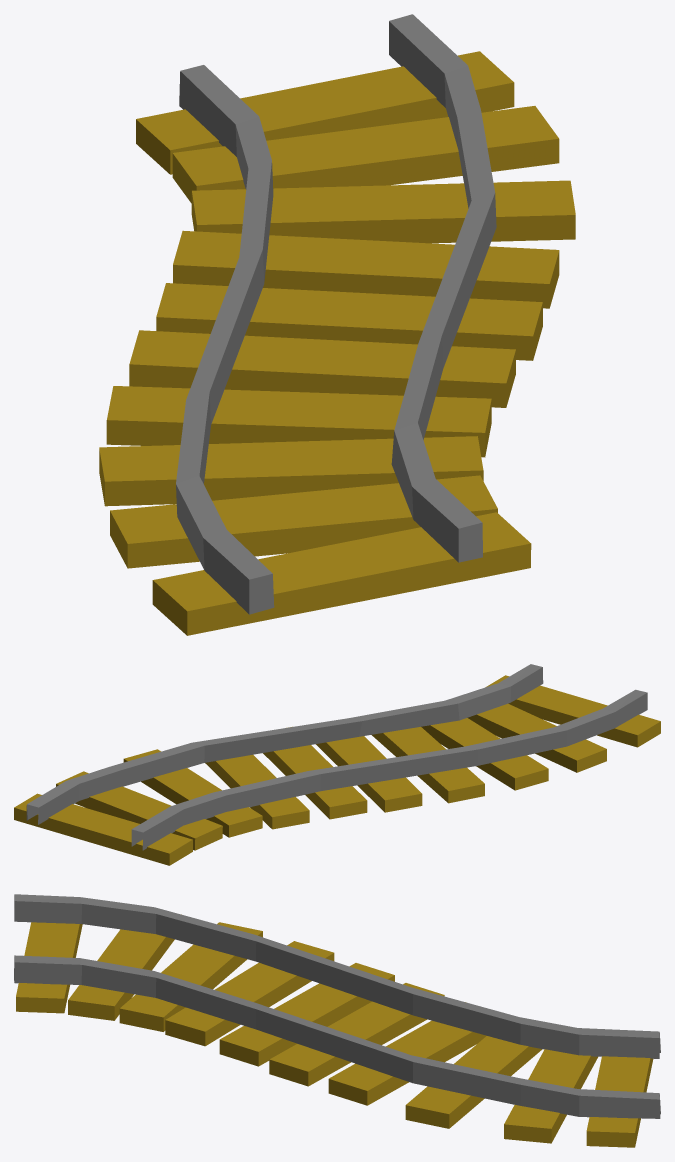
The model's file is S Bend Right.fbx.
The picture shows the model from 3 angles, top to bottom: view 1: azimuth 30°, elevation 25°; view 2: azimuth 150°, elevation 25°; view 3: azimuth 270°, elevation 25°; orthographic projection. The views are drawn at different scales.
Visible parts, largest first — view 1: Cube.009, Cube.012, Cube.019, Cube.014, Cube.016, Cube.018, Cube.000, Cube.015, Cube.013, Cube.017, Cube.011; view 2: Cube.009, Cube.011, Cube.012, Cube.013, Cube.000, Cube.014, Cube.015, Cube.016, Cube.019, Cube.018, Cube.017; view 3: Cube.009, Cube.017, Cube.016, Cube.015, Cube.018, Cube.019, Cube.000, Cube.013, Cube.014, Cube.011, Cube.012.
Part boxes in pixels (x1,y1,x2,y2): Cube.009: (176,14,496,614); Cube.012: (152,512,531,635); Cube.019: (191,180,575,243); Cube.014: (172,106,559,203); Cube.016: (129,330,515,407); Cube.018: (173,230,559,308); Cube.000: (99,436,483,506); Cube.015: (106,386,491,457); Cube.013: (110,475,497,568); Cube.017: (156,283,542,360); Cube.011: (136,51,514,174); Cube.009: (26,664,647,850); Cube.011: (14,793,192,865); Cube.012: (485,675,660,747); Cube.013: (467,703,606,772); Cube.000: (421,718,548,790); Cube.014: (56,771,222,850); Cube.015: (371,727,484,803); Cube.016: (316,736,422,812); Cube.019: (123,749,262,837); Cube.018: (205,754,309,829); Cube.017: (263,726,367,819); Cube.009: (14,894,660,1118); Cube.017: (269,983,444,1086); Cube.016: (219,963,394,1066); Cube.015: (165,941,334,1046); Cube.018: (328,1002,486,1105); Cube.019: (405,1036,542,1128); Cube.000: (119,922,262,1031); Cube.013: (68,914,181,1020); Cube.014: (504,1049,597,1143); Cube.011: (586,1056,653,1147); Cube.012: (16,922,82,1013).
Bounding box in the file's own units: 845 × 67.9 × 996.
